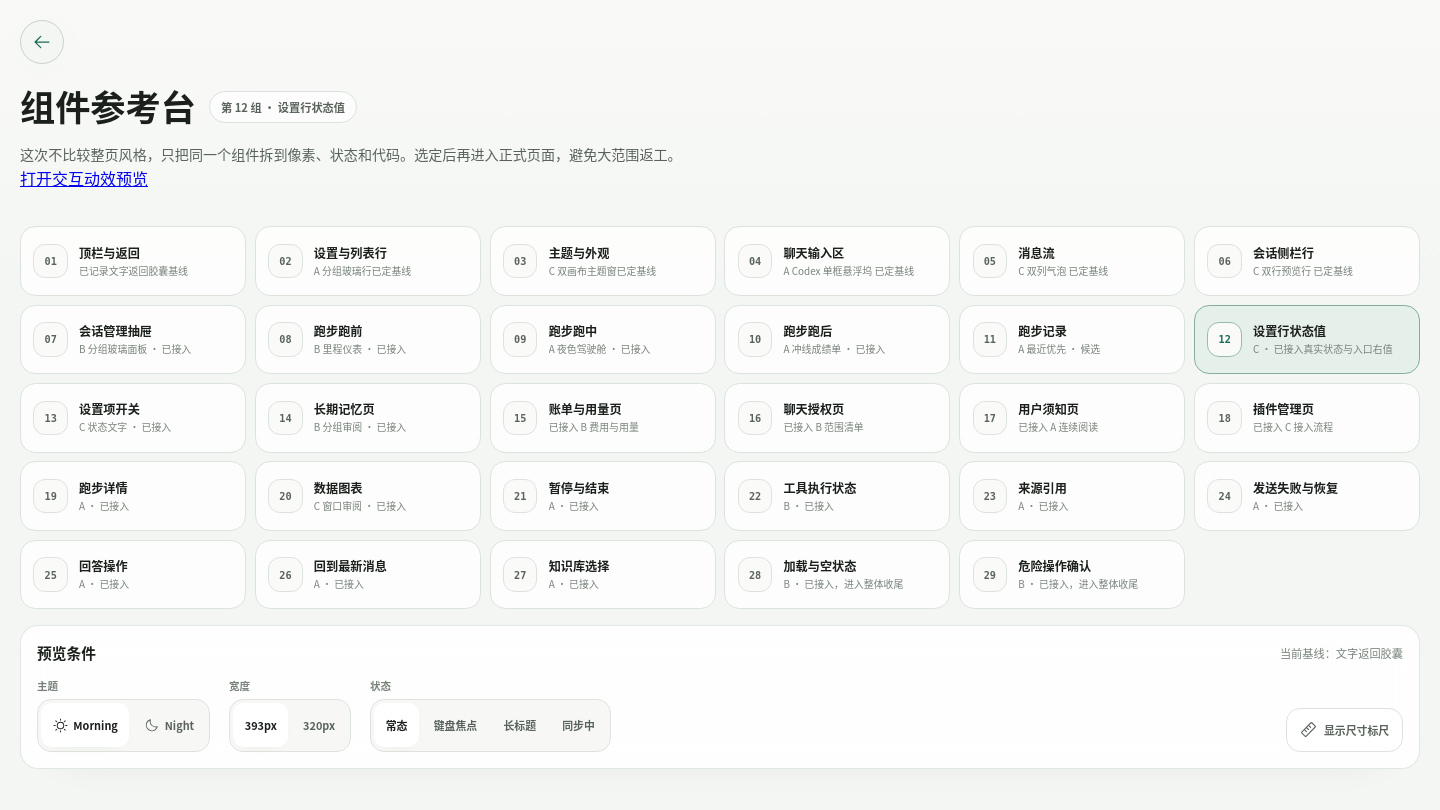
Test case: 组件参考台 › 第 11 组三案共享空记录、加载更多与记录选择状态
The image size is (1440, 810).
Step 1. Click the button with aria-label "查看第 11 组：跑步记录" → coordinates (1072, 339), box [959,305,1185,374]
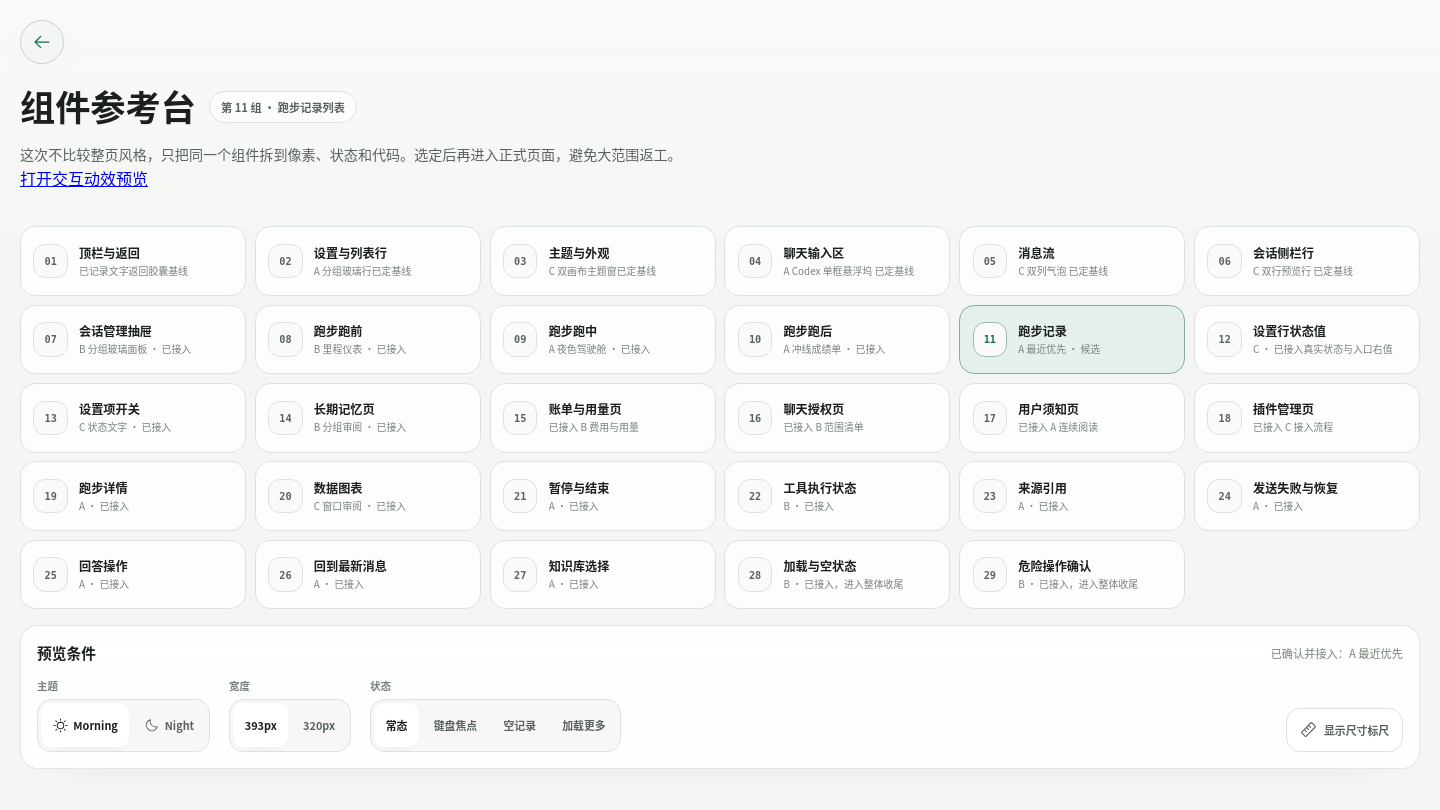
Step 2. Click the button "空记录" → coordinates (520, 725), box [492,703,548,747]
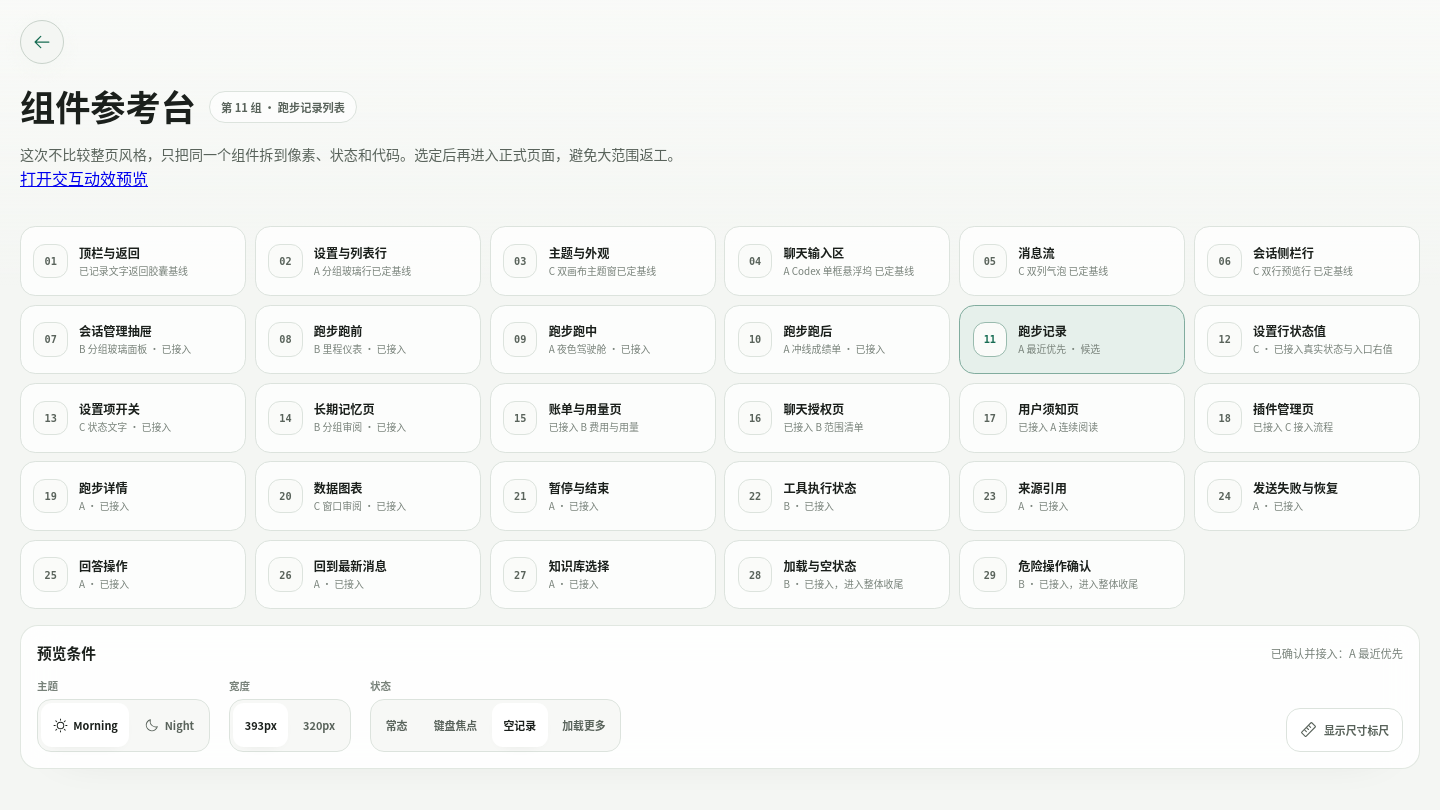
Expected: the text "共 5 次" is not shown
Step 3. Click the button "常态" → coordinates (397, 725), box [374,703,419,747]
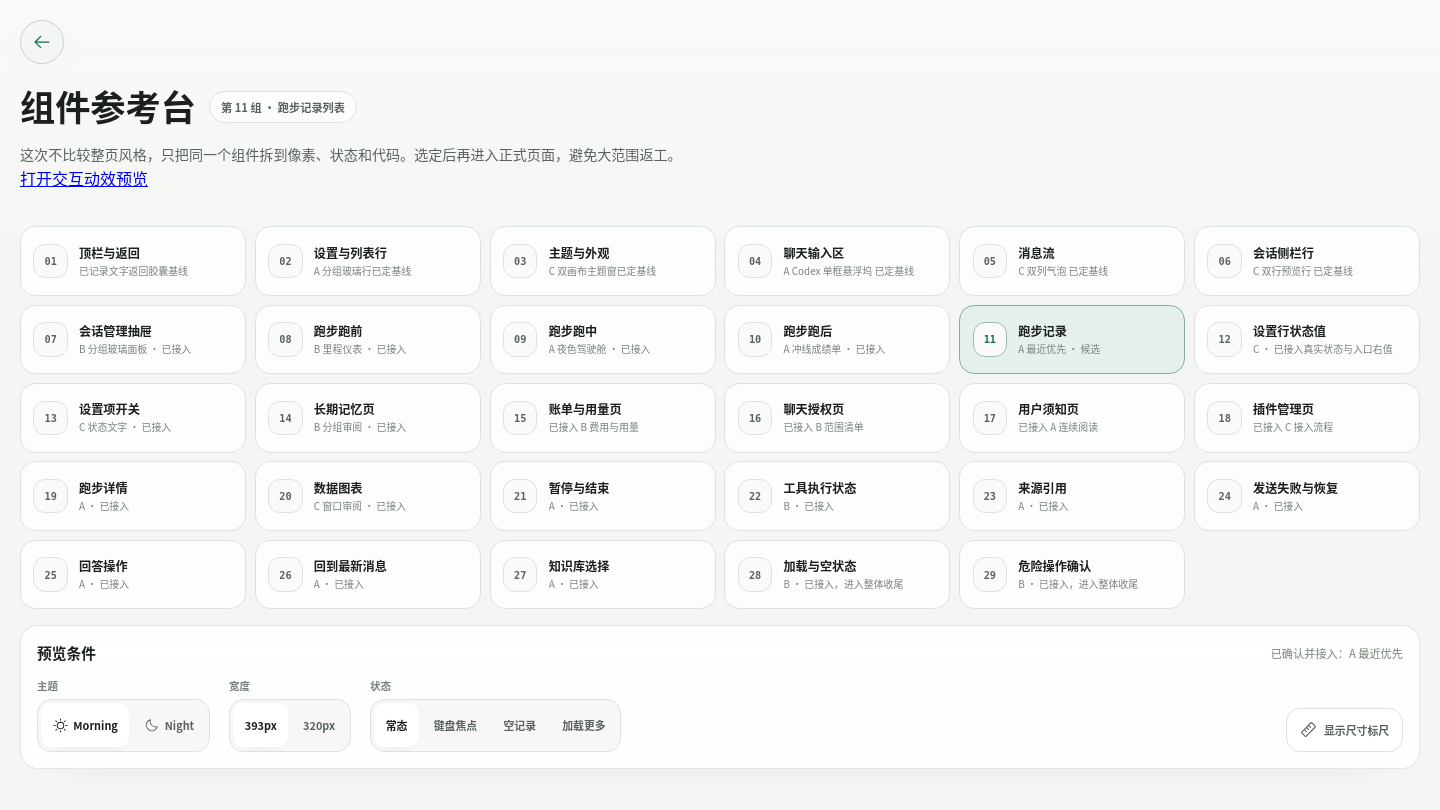
Step 4. Click the button "加载更多" → coordinates (584, 725), box [551,703,617,747]
(page scrolled)
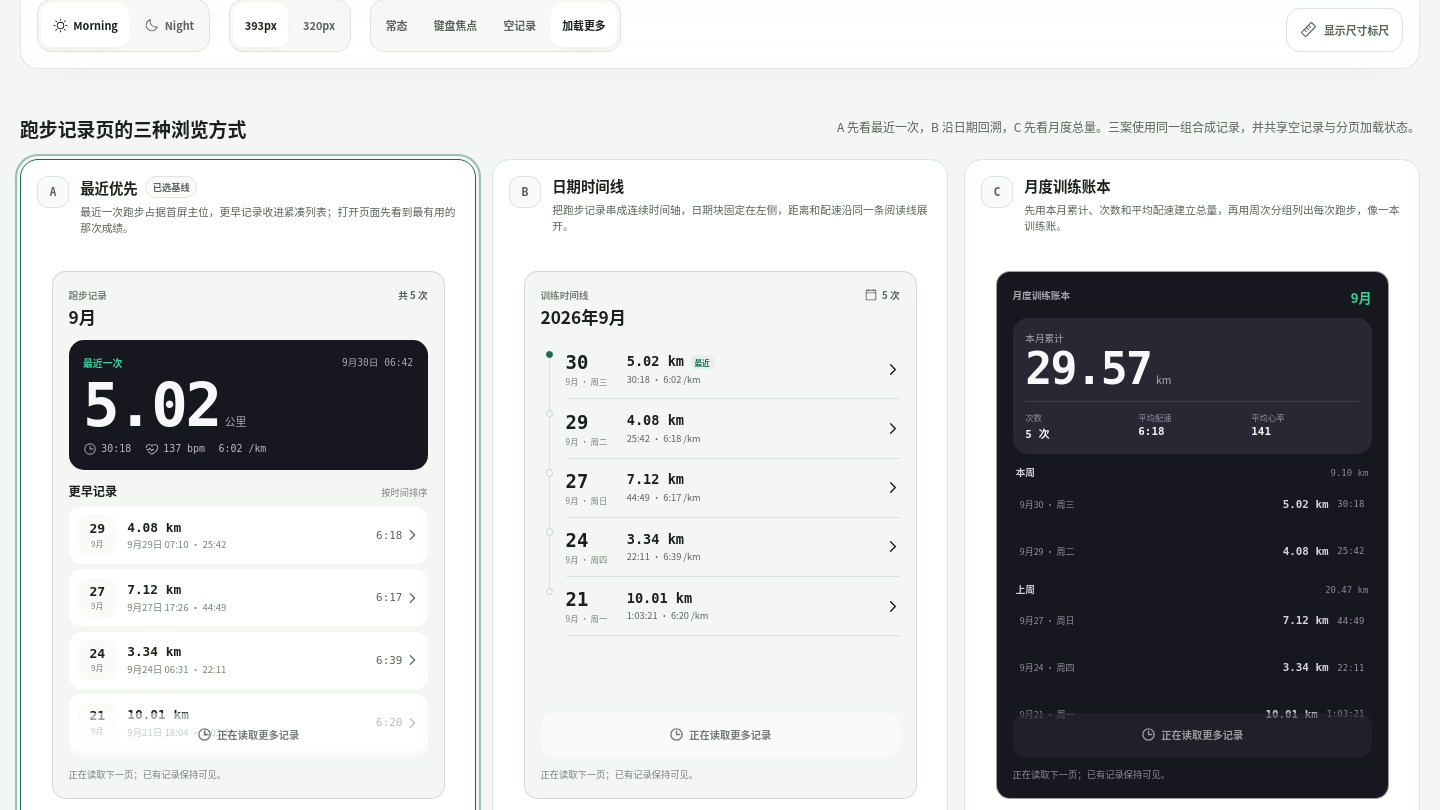
Expected: the number of buttons "正在读取更多记录" is 3, [68,713,428,757]; [540,713,900,757]; [1012,713,1372,757]
Step 5. Click the button with aria-label "查看 9月30日 06:42 的跑步总结" → coordinates (103, 362), box [68,340,428,470]
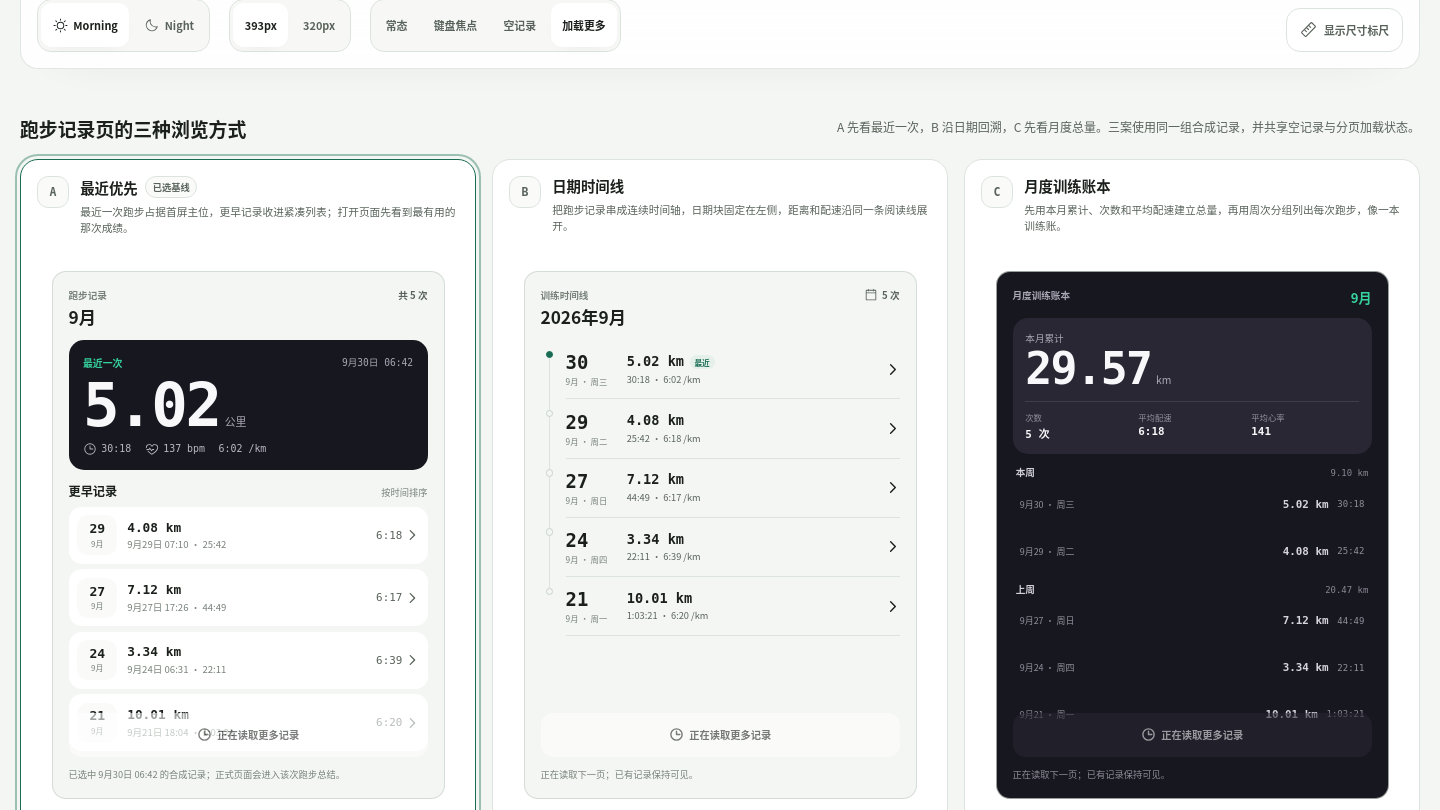
Expected: the message "已选中 9月30日 06:42 的合成记录；正式页面会进入该次跑步总结。" is shown, [68,767,345,781]
